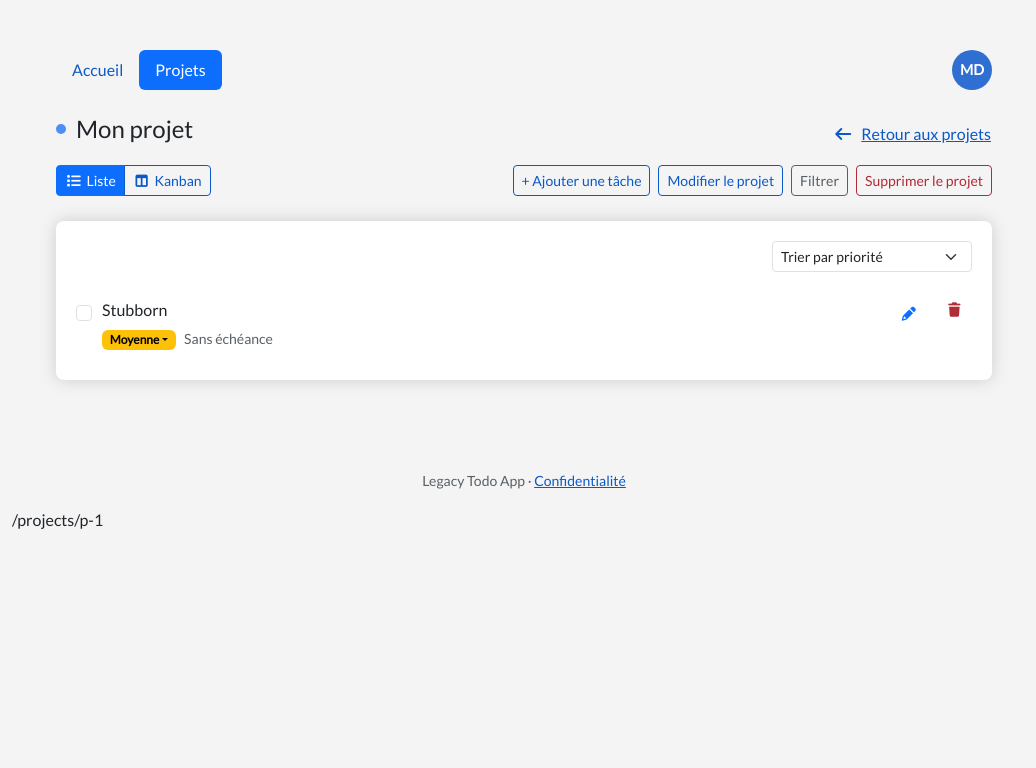
Test case: toggling a task › a failed update (500) leaves the task untouched and shows "Internal Server Error"
Click the checkbox at (84, 313), box [76,305,92,321]
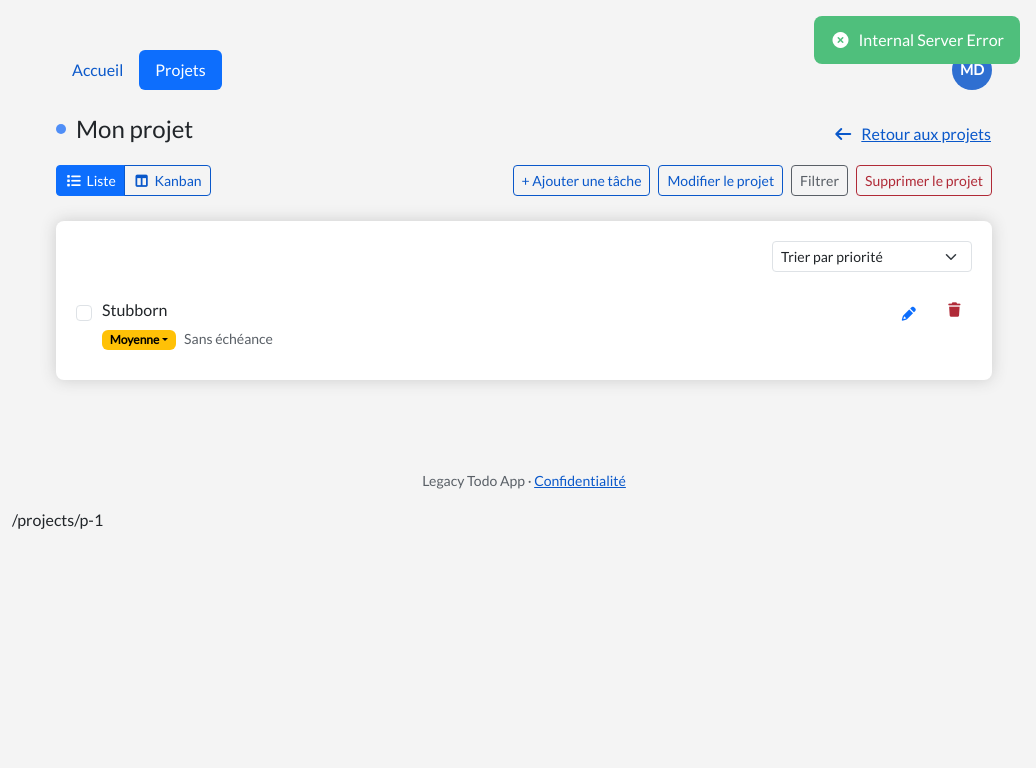
Check: the text "Internal Server Error" is shown, box [858,30,1004,49]
